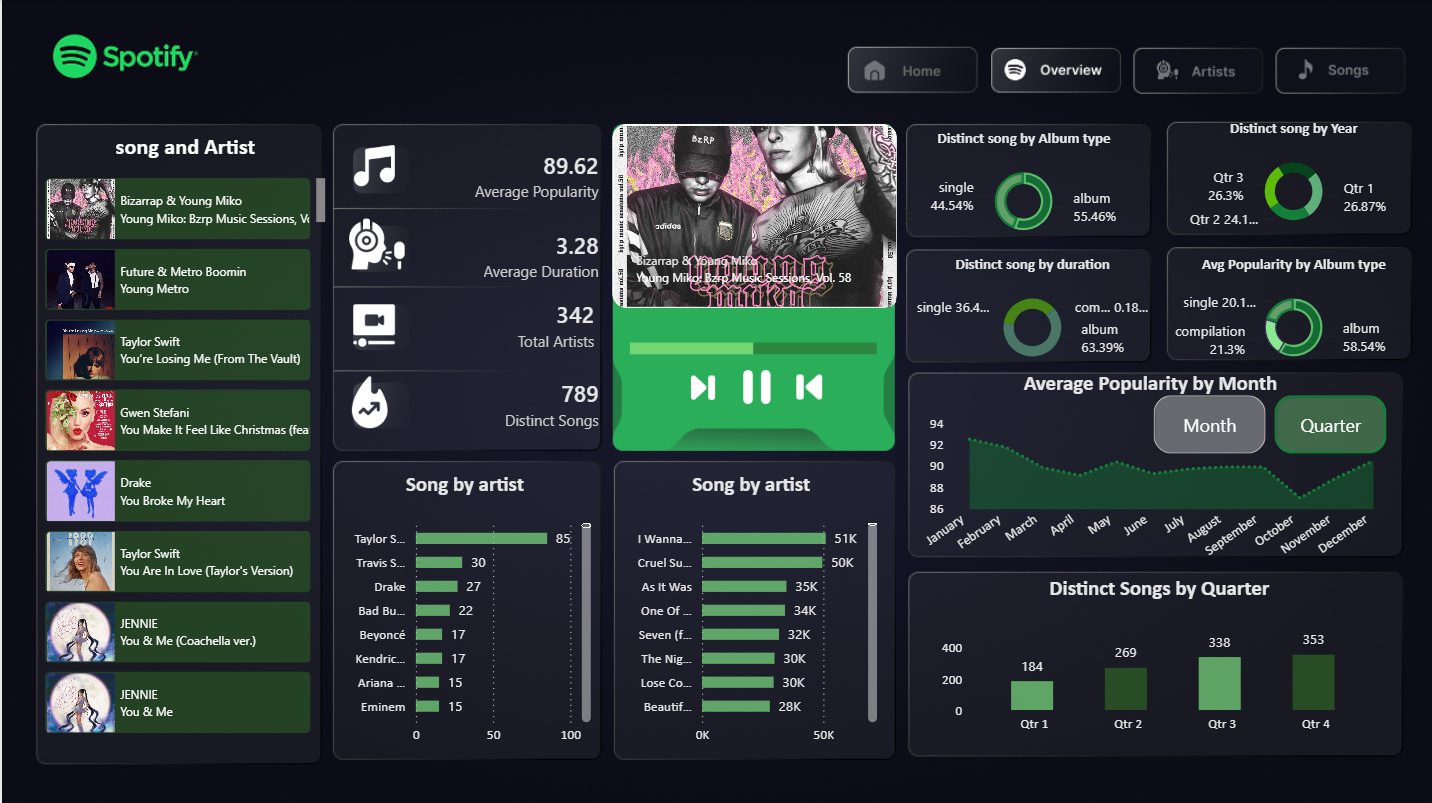

This screenshot's page, from the dashboard's own definition file:
{"tool":"powerbi","page":{"name":"Overview","canvas":[1280,720],"ordinal":1},"visuals":[{"type":"clusteredBarChart","title":"Song by artist","fields":{"Category":["Top-50-World.artist"],"Y":["Count(Top-50-World.song)"]},"box":[295.6,421,235.3,252.1],"z":0},{"type":"clusteredBarChart","title":"Song by artist","fields":{"Category":["Top-50-World.song"],"Y":["Sum(Top-50-World.popularity)"]},"box":[551.3,421,235.3,252.1],"z":1000},{"type":"areaChart","fields":{"Y":["Top-50-World.Average Popularity"],"Category":["Top-50-World.date.Variation.Date Hierarchy.Month"]},"box":[808.2,330.7,435,178.4],"z":2000},{"type":"advancedSlicerVisual","fields":{"Values":["Slicer_option 2.Slicer_option"]},"box":[1024.3,348.7,219.6,62.7],"z":3000},{"type":"donutChart","title":"Distinct song by Album type","fields":{"Category":["Top-50-World.album_type"],"Y":["Top-50-World.Explicit Song %"]},"box":[801.1,114.6,224.4,102.5],"z":4000},{"type":"donutChart","title":"Distinct song by Year","fields":{"Category":["Top-50-World.date.Variation.Date Hierarchy.Quarter"],"Y":["Top-50-World.Explicit Song %"]},"box":[1042.4,106.2,224.4,102.5],"z":5000},{"type":"donutChart","title":"Avg Popularity by Album type","fields":{"Category":["Top-50-World.album_type"],"Y":["Top-50-World.Average Songs per Artist"]},"box":[1042.4,228,224.4,102.5],"z":6000},{"type":"donutChart","title":"Distinct song by duration","fields":{"Category":["Top-50-World.album_type"],"Y":["Sum(Top-50-World.duration_ms)"]},"box":[808.3,228,224.4,102.5],"z":7000},{"type":"columnChart","fields":{"Category":["Top-50-World.date.Variation.Date Hierarchy.Quarter"],"Y":["Slicer_option 2.Distinct Songs"]},"box":[833.7,513.9,399.3,149.6],"z":8000},{"type":"cardVisual","fields":{"Data":["Slicer_option 2.Distinct Songs"]},"box":[384.2,310.1,178.6,101.3],"z":9000},{"type":"cardVisual","fields":{"Data":["Top-50-World.Total Artists"]},"box":[413,249.7,145.5,81],"z":10000},{"type":"cardVisual","fields":{"Data":["Top-50-World.Average Duration (Minutes)"]},"box":[384.2,178.4,178.6,98.9],"z":11000},{"type":"cardVisual","fields":{"Data":["Top-50-World.Average Popularity"]},"box":[384.4,115.3,178.4,82.3],"z":12000},{"type":"image","box":[295,267.6,75.5,45.3],"z":13000},{"type":"image","box":[297.8,336.2,75.5,46.7],"z":14000},{"type":"image","box":[308.7,193.5,50.8,49.4],"z":15000},{"type":"image","box":[307.4,129,50.8,37],"z":16000},{"type":"advancedSlicerVisual","title":"song and Artist","fields":{"Values":["Top-50-World.song"]},"box":[33.8,118.2,260.7,544.8],"z":17000},{"type":"advancedSlicerVisual","title":"song and Artist","fields":{"Values":["Top-50-World.song"]},"box":[520.1,105.7,304.6,174.3],"z":18000},{"type":"hundredPercentStackedBarChart","fields":{"Y":["Top-50-World.Average Popularity","Avg(Top-50-World.popularity)"]},"box":[555.7,267.6,230.5,81],"z":19000},{"type":"image","box":[708.1,330.7,26.1,30.2],"z":20000},{"type":"image","box":[613.4,333.4,26.1,24.7],"z":21000},{"type":"image","box":[654.5,330.7,40,30],"z":22000},{"type":"shape","box":[540.7,111.1,260.7,300.5],"z":23000},{"type":"actionButton","box":[755.2,41,112.2,39.8],"z":24000},{"type":"actionButton","box":[884.3,41,112.2,39.8],"z":25000},{"type":"actionButton","box":[1011,39.8,112.2,39.8],"z":26000},{"type":"actionButton","box":[1136.5,39.8,112.2,39.8],"z":27000}]}

Visuals, with their boxes in screenshot pixels (x1, y1, x2, y2), scaled from the page's 1280x720 canvas onto the 1432x803 screenshot:
"Song by artist" clusteredBarChart: bbox=[331, 470, 594, 751]
"Song by artist" clusteredBarChart: bbox=[617, 470, 880, 751]
areaChart - Top-50-World.Average Popularity x Top-50-World.date.Variation.Date Hierarchy.Month: bbox=[904, 369, 1391, 568]
advancedSlicerVisual - Slicer_option 2.Slicer_option: bbox=[1146, 389, 1392, 459]
"Distinct song by Album type" donutChart: bbox=[896, 128, 1147, 242]
"Distinct song by Year" donutChart: bbox=[1166, 118, 1417, 233]
"Avg Popularity by Album type" donutChart: bbox=[1166, 254, 1417, 369]
"Distinct song by duration" donutChart: bbox=[904, 254, 1155, 369]
columnChart - Top-50-World.date.Variation.Date Hierarchy.Quarter x Slicer_option 2.Distinct Songs: bbox=[933, 573, 1379, 740]
cardVisual - Slicer_option 2.Distinct Songs: bbox=[430, 346, 630, 459]
cardVisual - Top-50-World.Total Artists: bbox=[462, 278, 625, 369]
cardVisual - Top-50-World.Average Duration (Minutes): bbox=[430, 199, 630, 309]
cardVisual - Top-50-World.Average Popularity: bbox=[430, 129, 630, 220]
image: bbox=[330, 298, 414, 349]
image: bbox=[333, 375, 418, 427]
image: bbox=[345, 216, 402, 271]
image: bbox=[344, 144, 401, 185]
"song and Artist" advancedSlicerVisual: bbox=[38, 132, 329, 739]
"song and Artist" advancedSlicerVisual: bbox=[582, 118, 923, 312]
hundredPercentStackedBarChart - Top-50-World.Average Popularity x Avg(Top-50-World.popularity): bbox=[622, 298, 880, 389]
image: bbox=[792, 369, 821, 403]
image: bbox=[686, 372, 715, 399]
image: bbox=[732, 369, 777, 402]
shape: bbox=[605, 124, 897, 459]
actionButton: bbox=[845, 46, 970, 90]
actionButton: bbox=[989, 46, 1115, 90]
actionButton: bbox=[1131, 44, 1257, 89]
actionButton: bbox=[1271, 44, 1397, 89]
